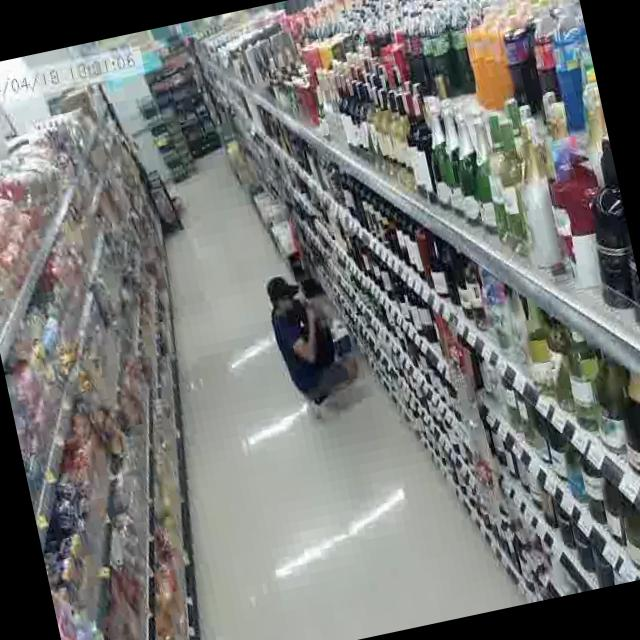shoplifting: (248, 246, 385, 435)
